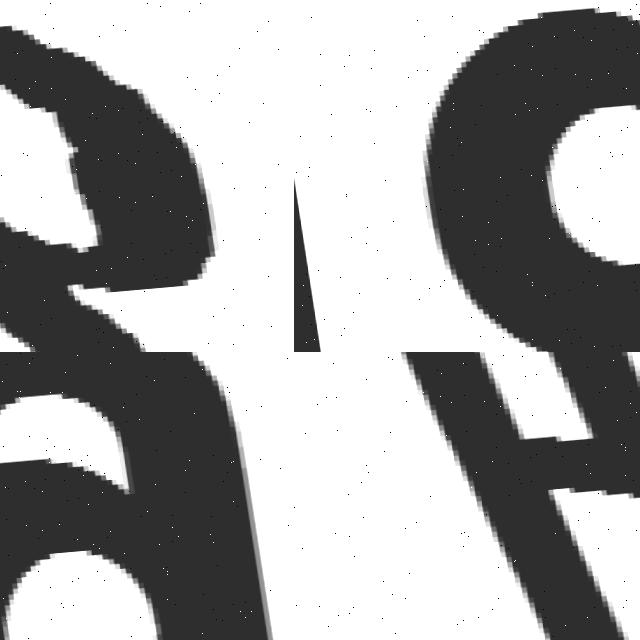5: (0, 0, 294, 352)
G: (0, 352, 294, 640)
H: (394, 352, 640, 640)
Q: (363, 0, 640, 352)
